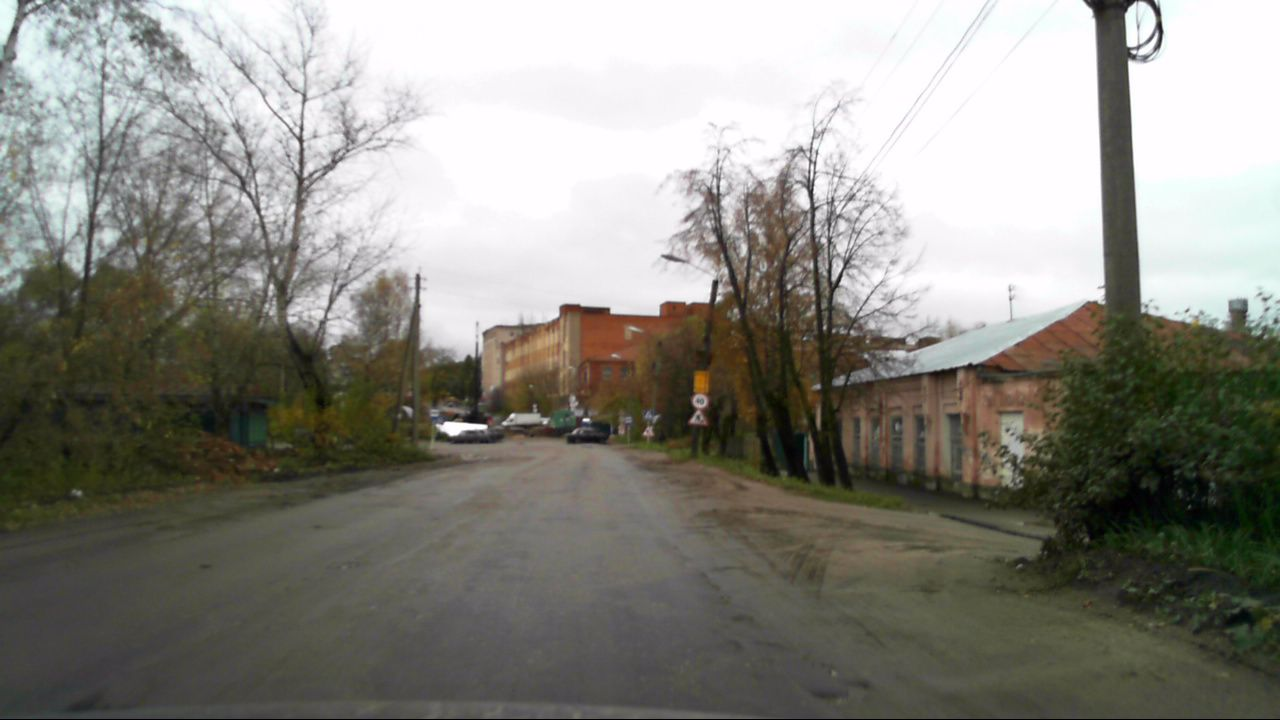speed_warning_40: (690, 391, 710, 410)
